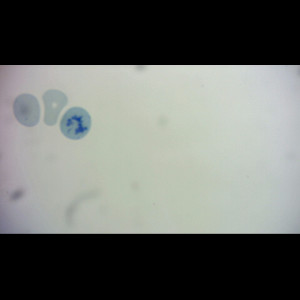aggregate reticulocyte: (58, 105, 94, 142)
erythrocyte: (46, 80, 69, 127)
punctate reticulocyte: (11, 92, 42, 128)
